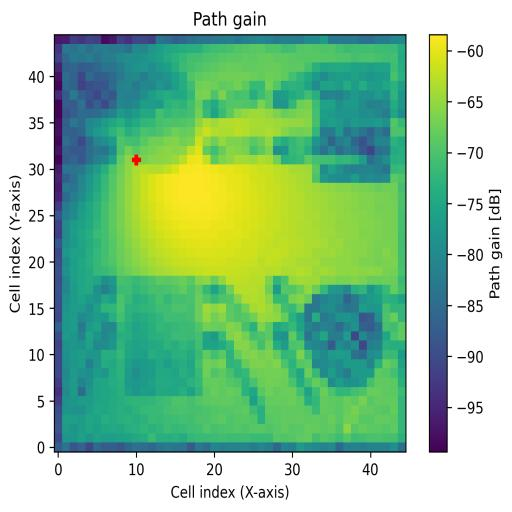Concrete: (310, 62, 390, 183)
Glass: (117, 59, 196, 166)
Metal: (304, 282, 382, 386)
Wood: (124, 277, 204, 396)
